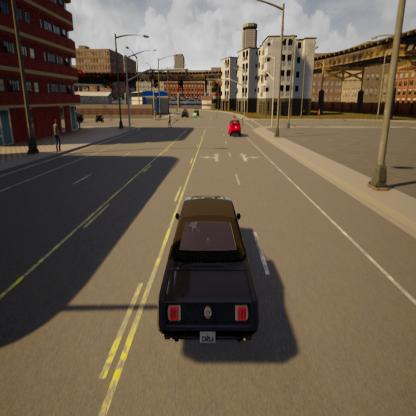Cars: (155, 194, 264, 366), (229, 115, 242, 143)
Pedestrian: (51, 118, 63, 157), (166, 108, 173, 130)
